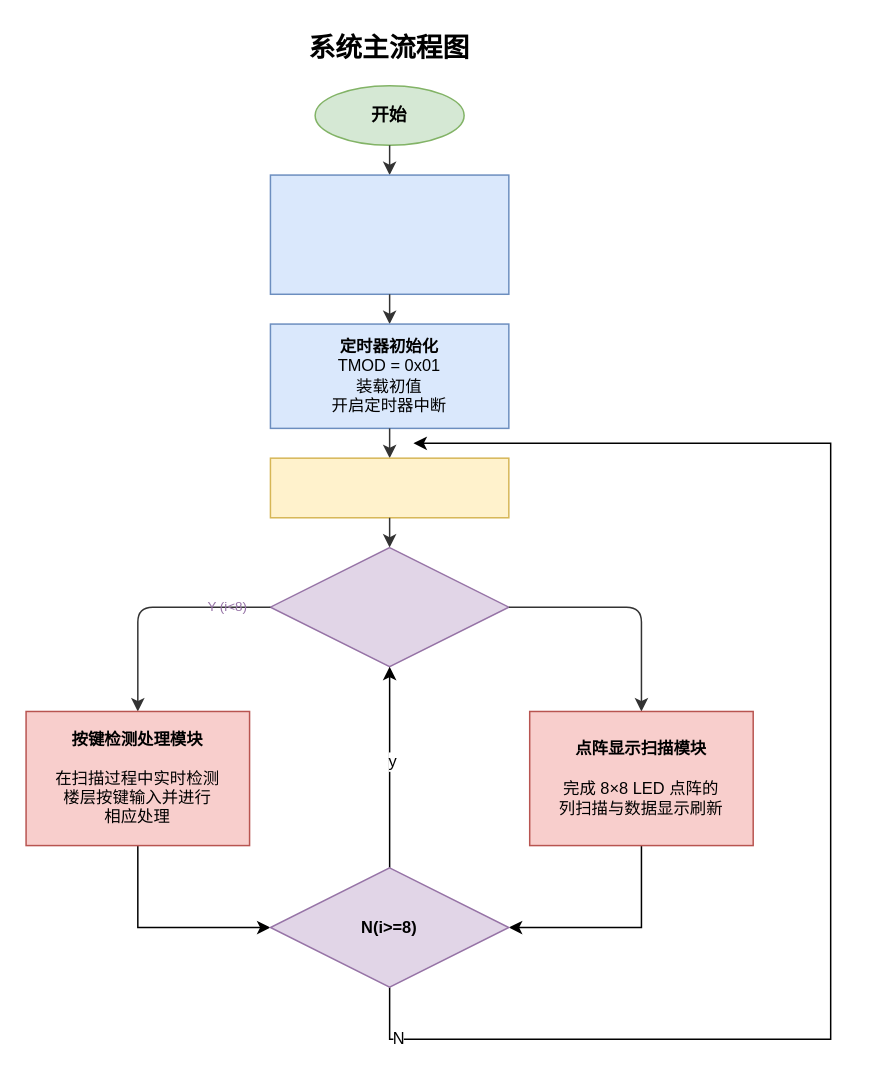
Image size: 869x1077. Some labels were removed from this diagram. The centre of each missing label's shape, as x and y in pixels:
"for (i = 0; i < 8; i++) 8 列扫描循环" belongs at [389,606].
"主循环开始 while(1)" belongs at [389,487].
"变量初始化 flag_o = 1 flag_p = 1 flag_d = 0 flag_n = 0xFF" belongs at [389,234].
